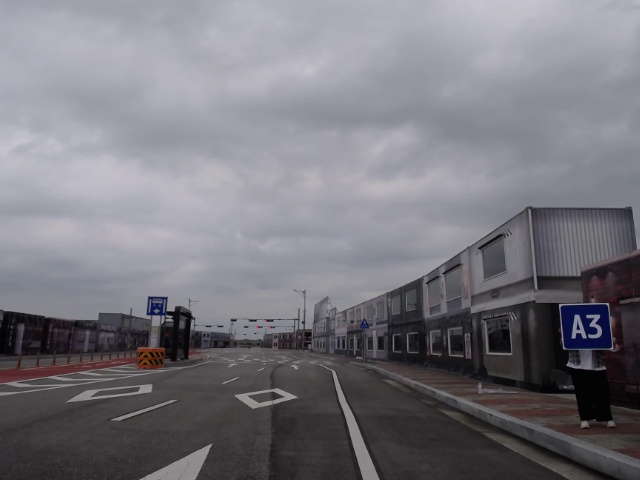delivery_a3: (560, 304, 613, 350)
